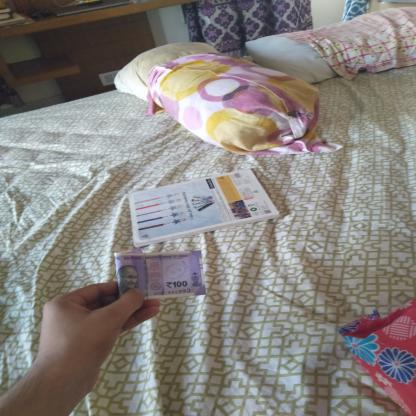New100Front: (112, 250, 206, 298)
